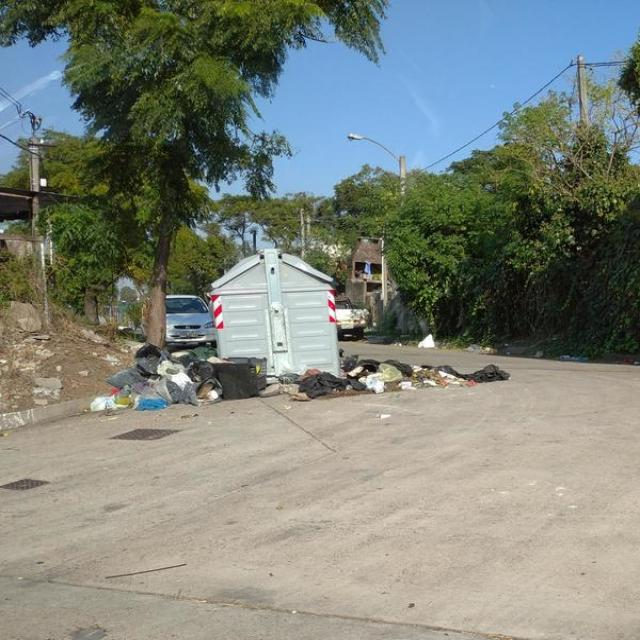garbage: (101, 335, 271, 415), (279, 359, 511, 398), (0, 333, 79, 411), (534, 341, 580, 364), (416, 331, 441, 349)
